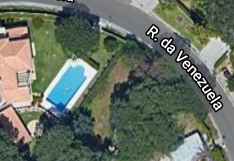pool: (54, 71, 87, 101)
